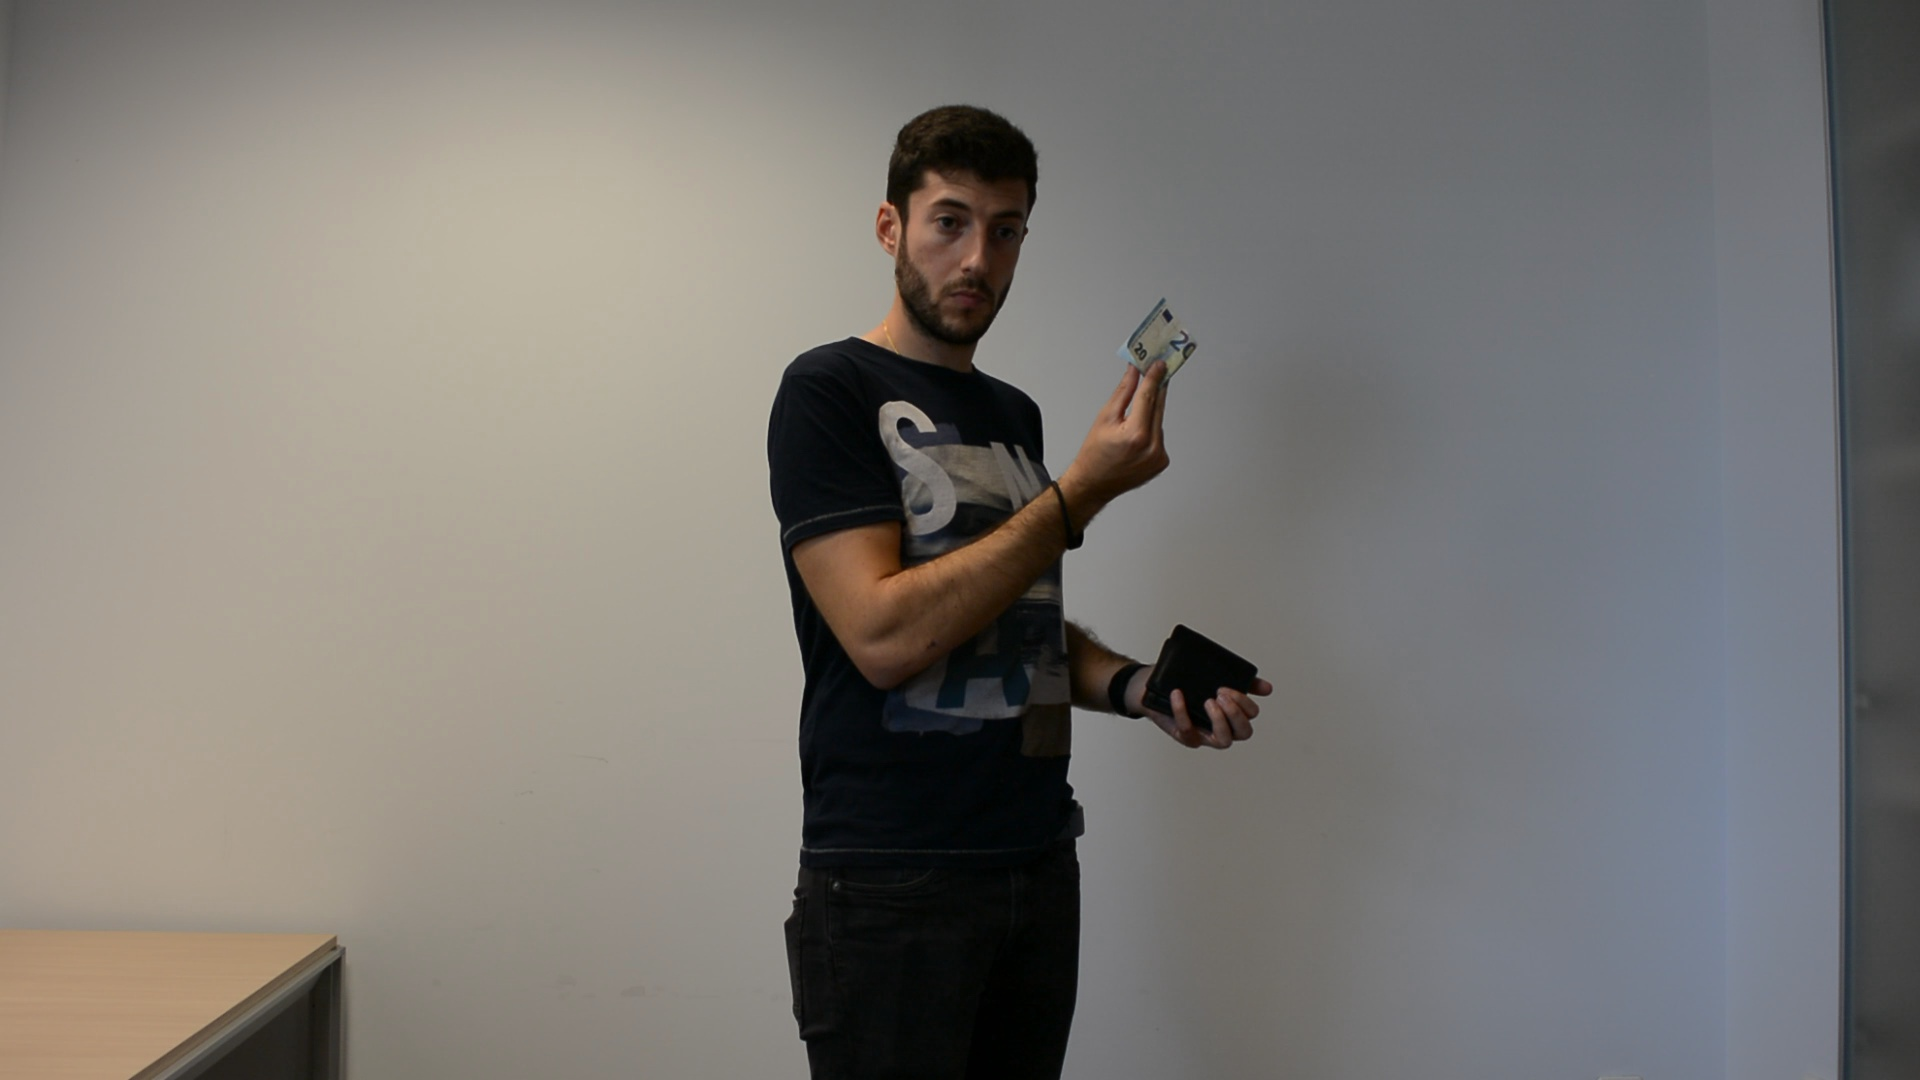billete: (1116, 294, 1203, 388)
monedero: (1137, 618, 1262, 740)
